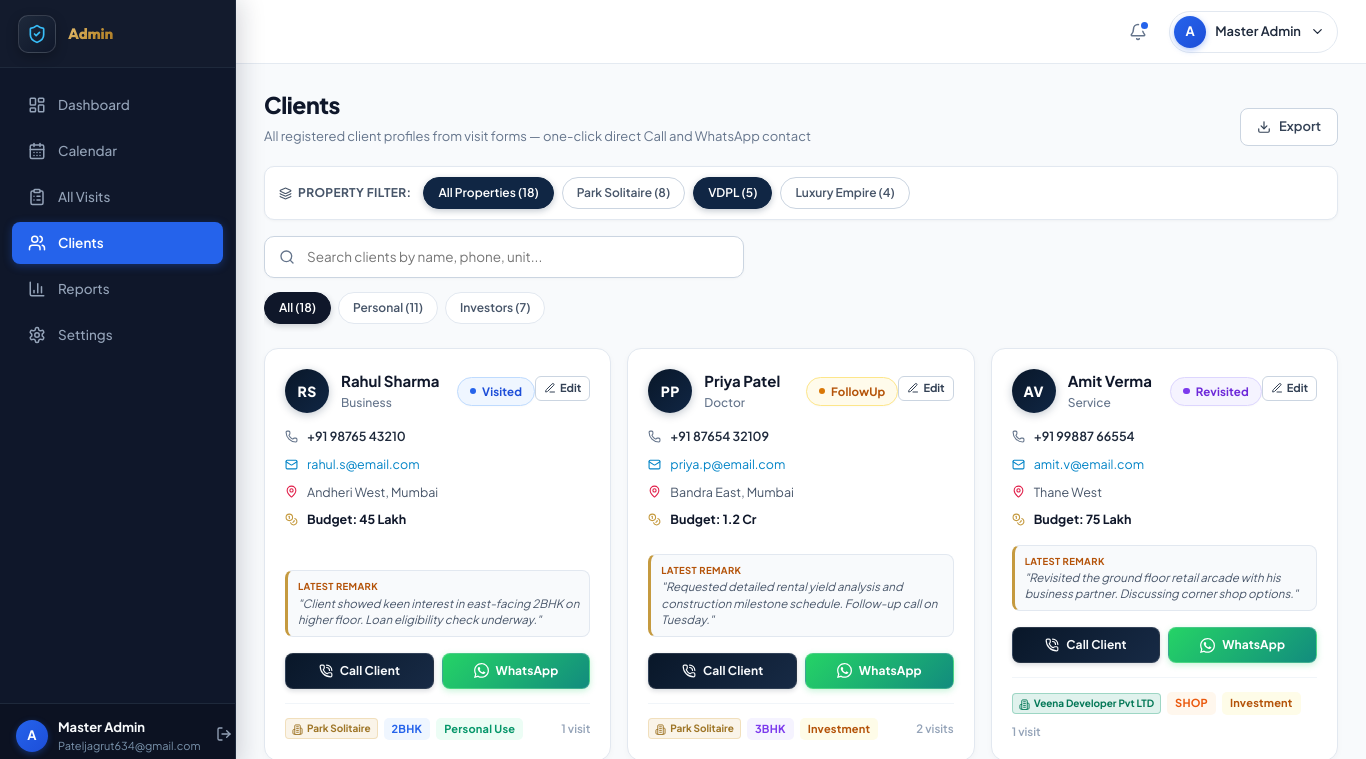
Test: Park Solitaire Client Visit App › Client Profile Cards in Clients View › verifies status filter pills (Visited, FollowUp, Booked, etc.) are removed from Clients screen and filters by aspiration
Check: the button "Booked" is not shown
# Click 'Investors' filter pill
Step 1. Click the button "Investors (7)" → x=495, y=308, box x1=445 y1=292 x2=545 y2=324
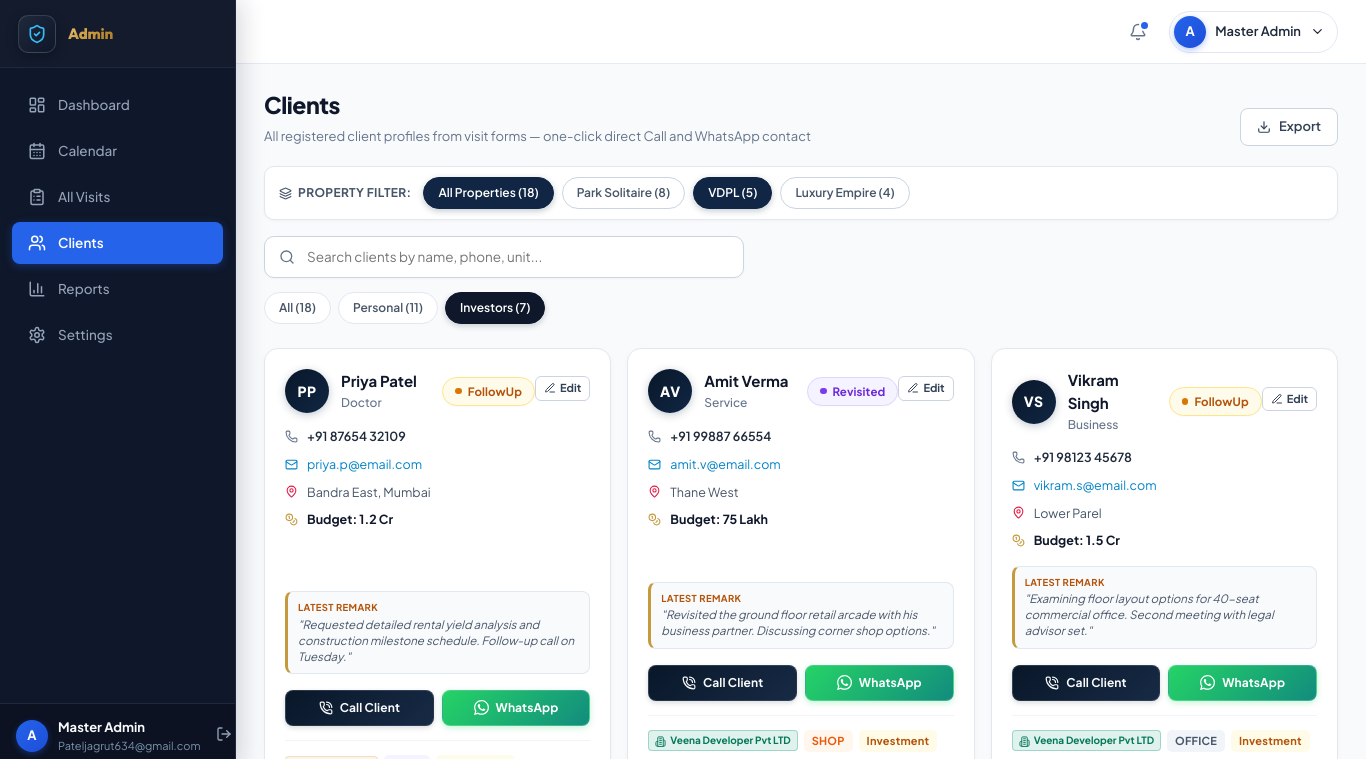
Check: the heading "Priya Patel" is shown, box x1=341 y1=370 x2=417 y2=392
Check: the heading "Rahul Sharma" is gone
# Click 'Personal' filter pill
Step 2. Click the button "Personal (11)" → x=388, y=308, box x1=338 y1=292 x2=438 y2=324
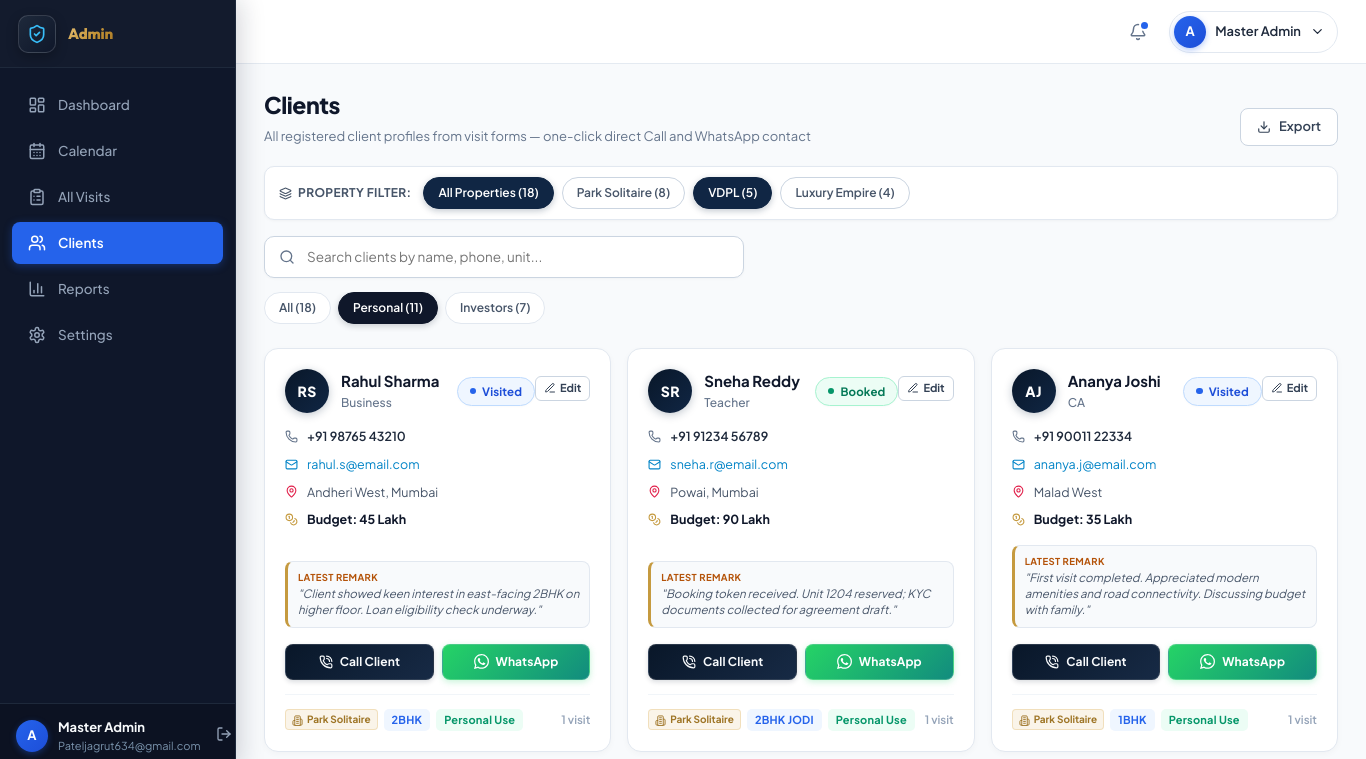
Check: the heading "Rahul Sharma" is shown, box x1=341 y1=370 x2=439 y2=392
Check: the heading "Priya Patel" is gone
